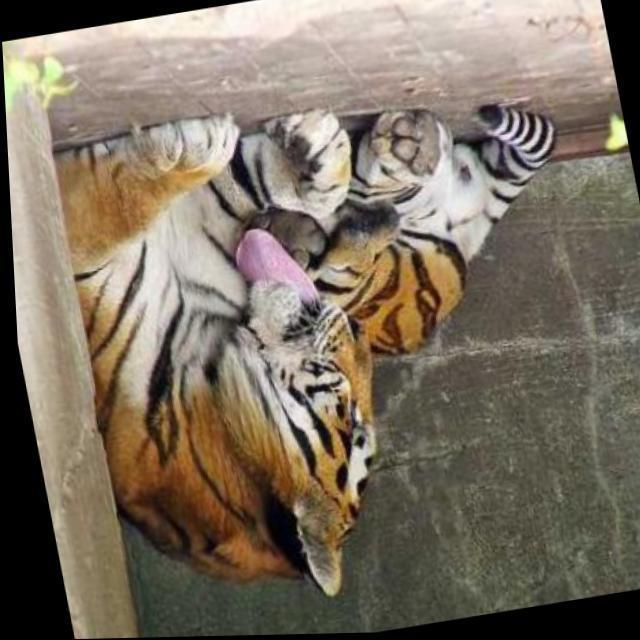tiger: (54, 98, 556, 597), (306, 100, 556, 356)
